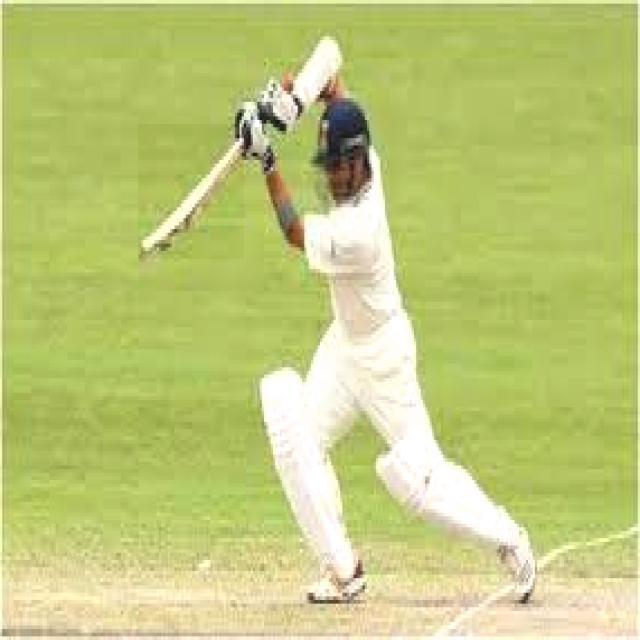bat: (139, 140, 245, 264)
toe: (140, 241, 163, 264)
